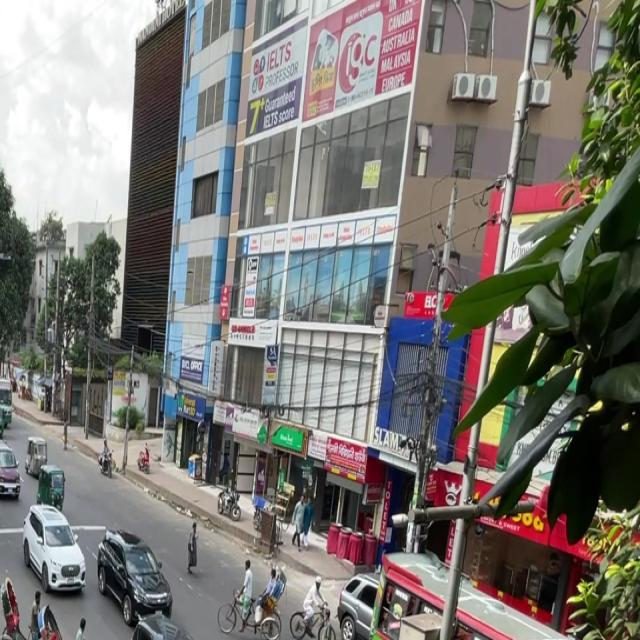car: (93, 525, 177, 629), (20, 501, 90, 597), (330, 569, 389, 640), (119, 619, 232, 640), (0, 437, 25, 503)
rickshaw: (37, 458, 69, 512), (23, 431, 51, 475)
